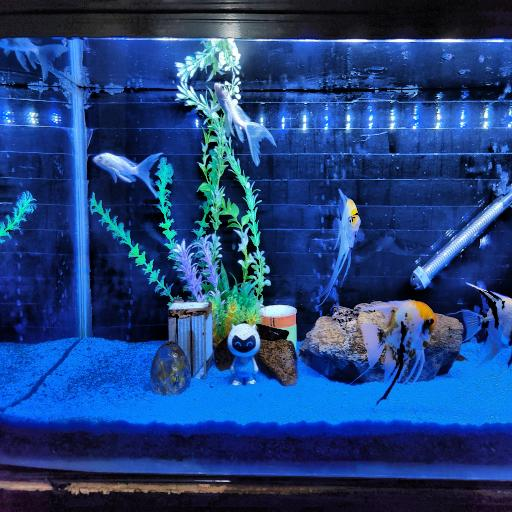Fish: (361, 301, 437, 403), (317, 190, 360, 306), (215, 83, 275, 165), (462, 283, 511, 364), (93, 153, 162, 197), (0, 38, 68, 81)
